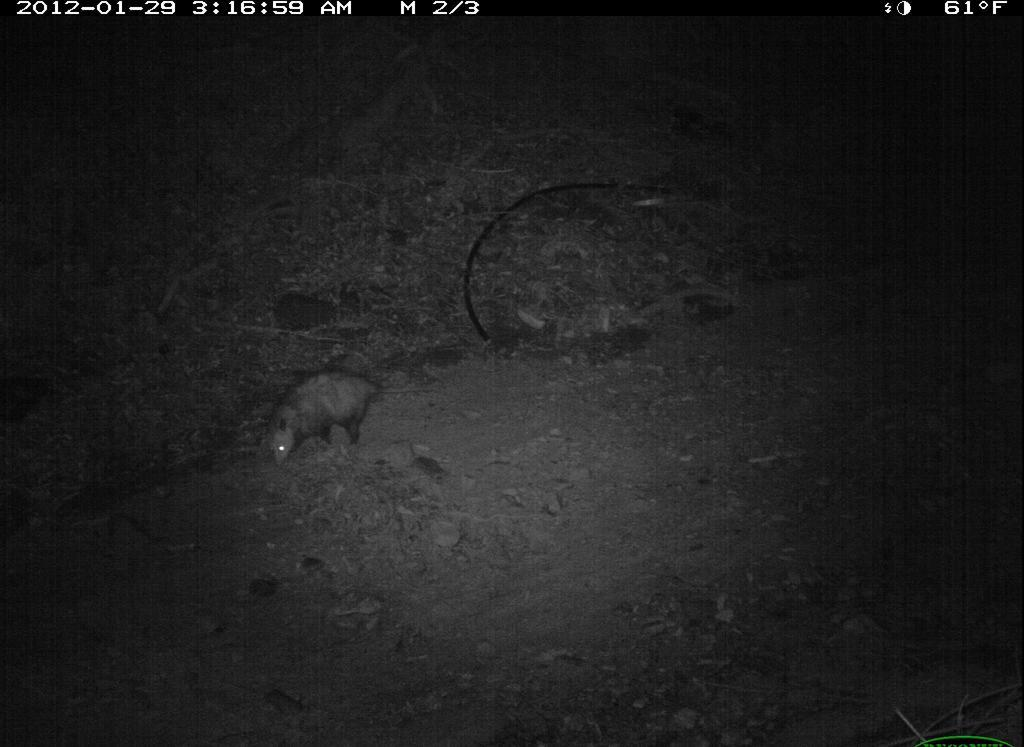opossum: (250, 350, 464, 474)
